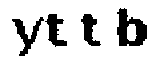b: (113, 6, 149, 51)
t: (44, 12, 71, 50), (78, 12, 102, 48)
y: (9, 15, 46, 60)
